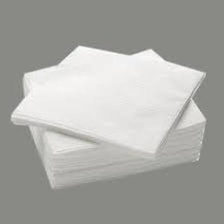tissue: (4, 35, 213, 194)
